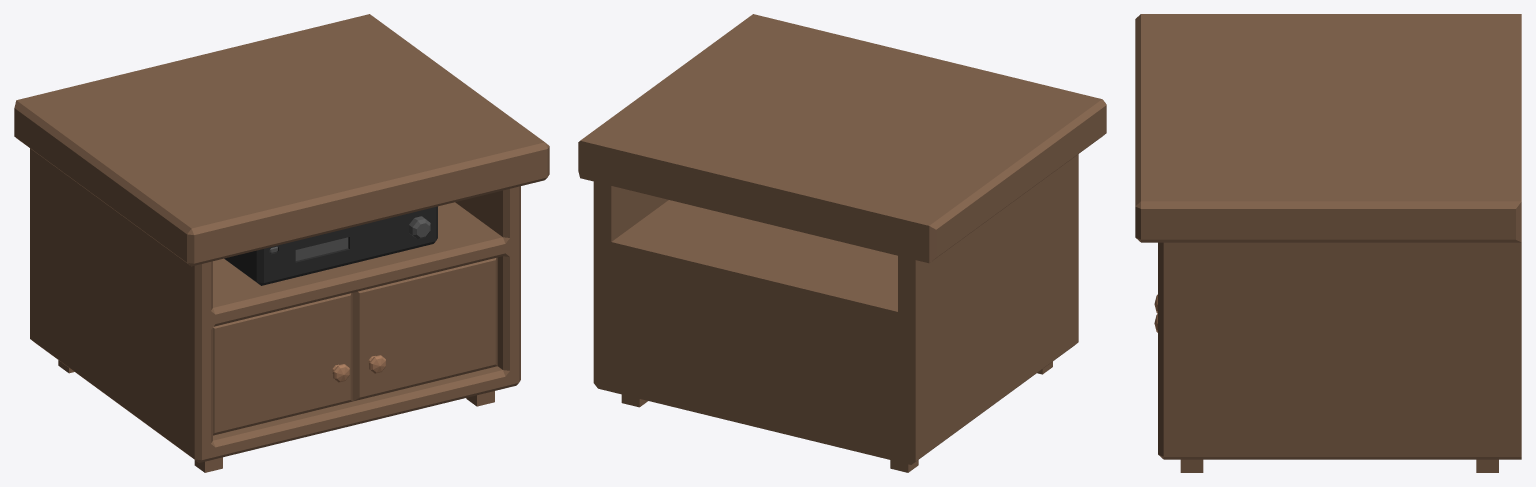
File: Prop_Living_Room_TV_Stand.obj
3 renders of one model, left to right at view 1: azimuth 30°, elevation 25°; view 2: azimuth 150°, elevation 25°; view 3: azimuth 270°, elevation 25°, orthographic. The views are drawn at different scales.
Visible parts, largest first — view 1: object2, object3, object1, object4; view 2: object2; view 3: object2.
Boxes of the visible parts, x1,y1,x2,y2 form: object2: [14, 14, 549, 472]; object3: [352, 257, 497, 401]; object1: [213, 293, 352, 435]; object4: [224, 206, 437, 285]; object2: [578, 14, 1106, 472]; object2: [1135, 14, 1521, 472].
Bounding box in the file's own units: 1 × 0.7 × 0.85.
